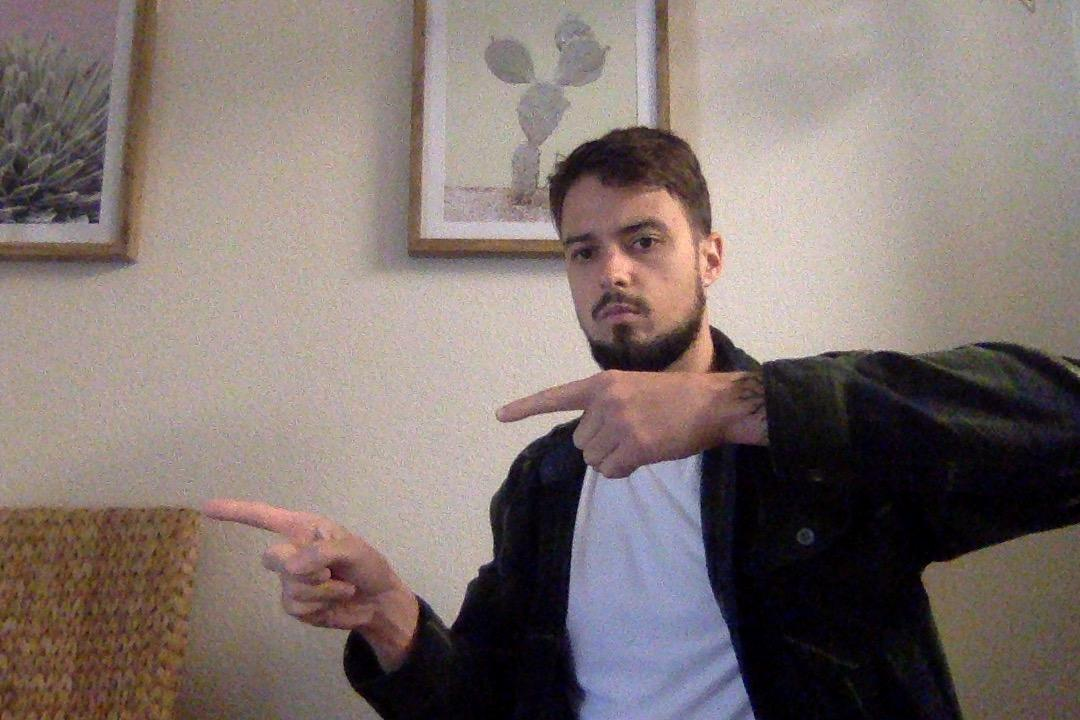Point-Left: (200, 490, 416, 647), (492, 363, 738, 471)
